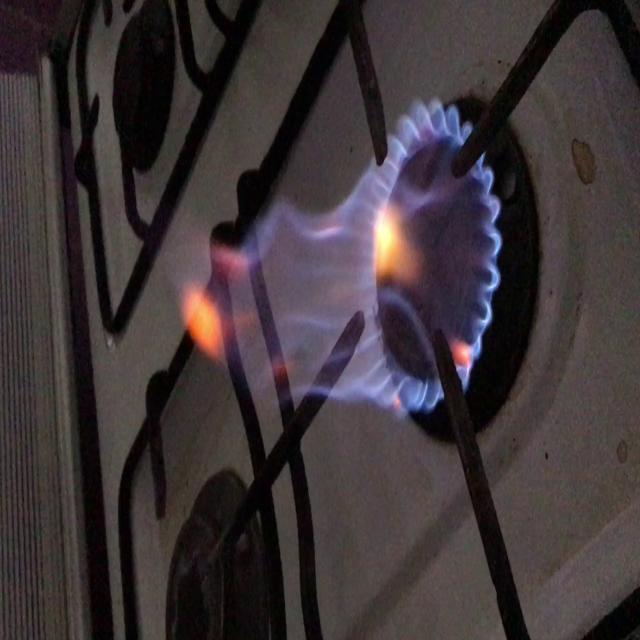Fire: (192, 108, 512, 414)
